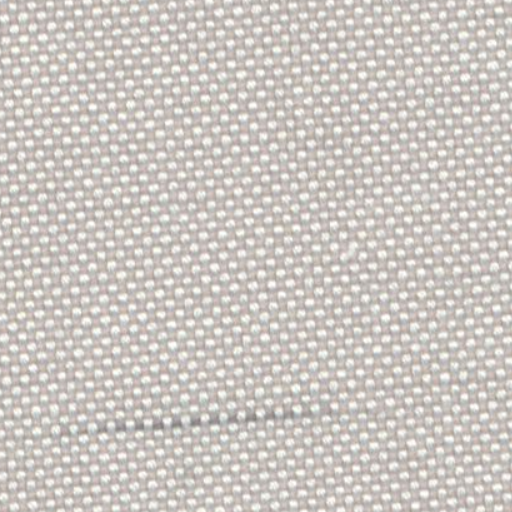WuZi: (62, 395, 301, 438)
